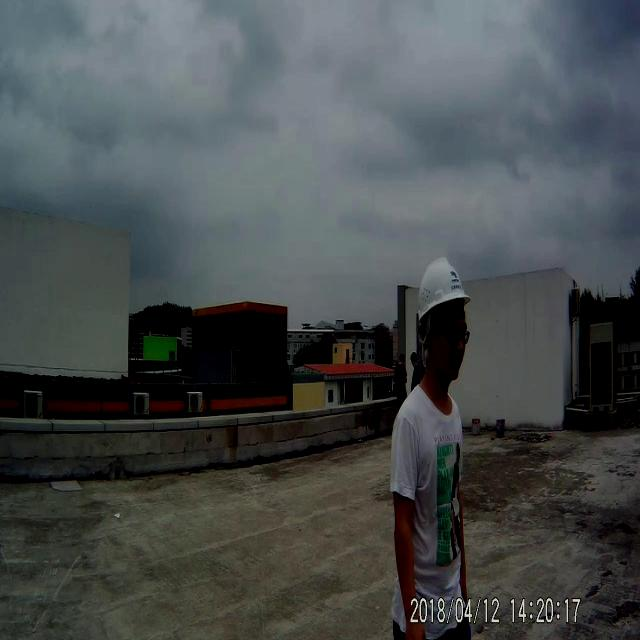face_nomask: (427, 307, 469, 384)
head_helmet: (419, 253, 473, 328)
person: (395, 256, 475, 640), (396, 350, 408, 407), (412, 351, 420, 393)
